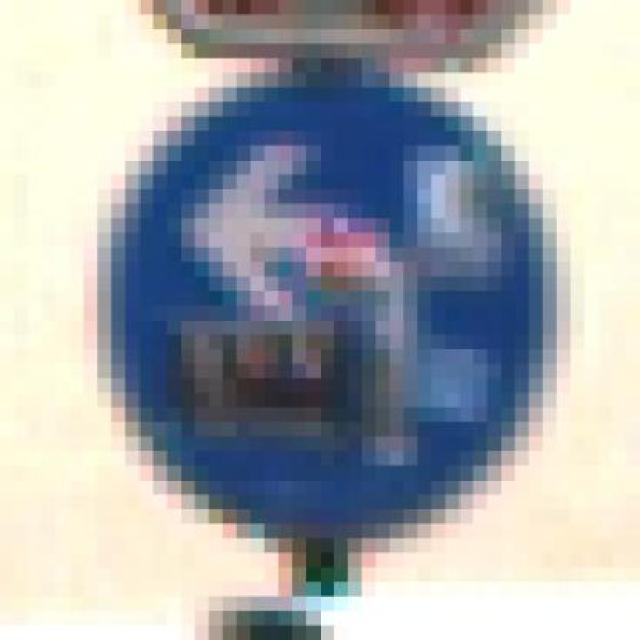Turn left ahead: (62, 59, 578, 539)
